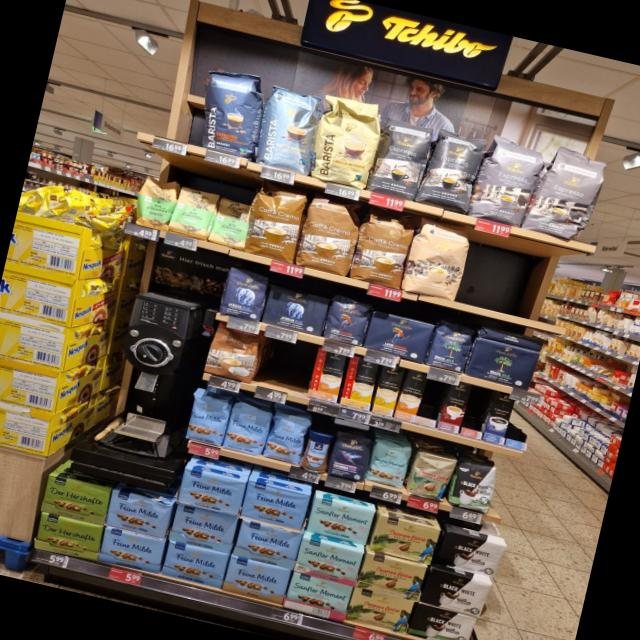AB Bohne: (217, 262, 271, 323)
AB Gemahlen: (260, 284, 330, 338)
Athiopien Bohne: (130, 172, 179, 231)
Athiopien Gemahlen: (169, 184, 220, 238), (208, 194, 254, 249)
BM Bohne: (426, 317, 476, 375)
BM Gemahlen: (465, 336, 538, 392)
BW Bohne: (446, 455, 502, 515)
BW Gemahlen: (420, 563, 494, 619), (434, 526, 508, 580), (407, 600, 478, 640)
Barista CB: (306, 91, 386, 192)
Barista CC: (253, 81, 328, 176)
Barista Espresso: (187, 64, 270, 160)
C Fino Bohne: (325, 425, 376, 484)
CC Mild: (400, 214, 474, 303)
CC Vollmundig: (204, 323, 262, 383)
CC Vollmundig 36 Pads: (294, 190, 364, 278), (241, 180, 310, 264), (350, 204, 416, 289)
Colombia BB Bohne: (406, 448, 458, 504)
Colombia BB Gemahlen: (355, 546, 430, 604), (366, 512, 442, 566), (346, 586, 416, 636)
Empty Shelf: (459, 230, 585, 326), (252, 336, 316, 396), (464, 386, 492, 432), (420, 378, 448, 421)
Espresso Aromatisch: (526, 141, 611, 245)
Espresso M Art: (472, 132, 543, 228)
Espresso S Art: (417, 124, 488, 215), (366, 113, 434, 202)
FM Bohne: (222, 396, 274, 458), (262, 406, 312, 466), (181, 390, 233, 447)
FM Gemahlen: (238, 478, 312, 534), (94, 524, 168, 578), (167, 502, 239, 554), (176, 465, 247, 517), (104, 488, 174, 540), (222, 554, 292, 606), (160, 538, 229, 590), (232, 518, 302, 569)
FM Instant: (300, 428, 336, 476)
Herzhatfe Mundig: (36, 472, 112, 526), (32, 512, 104, 563)
LG Bohne: (322, 291, 373, 348)
LG Gemahlen: (360, 308, 435, 366)
SM Bohne: (366, 435, 416, 490)
SM Gemahlen: (306, 493, 376, 548), (294, 534, 364, 588), (282, 570, 354, 622)
Simo CCMild: (340, 356, 380, 410)
Simo CCMild bigpack: (372, 364, 402, 417)
Simo CCVollmundig: (306, 347, 348, 402)
Simo CCVollmundig bigpack: (393, 369, 429, 422)
Simo Es Caramel: (438, 384, 471, 433)
Simo Es Kraft: (482, 390, 514, 444)
